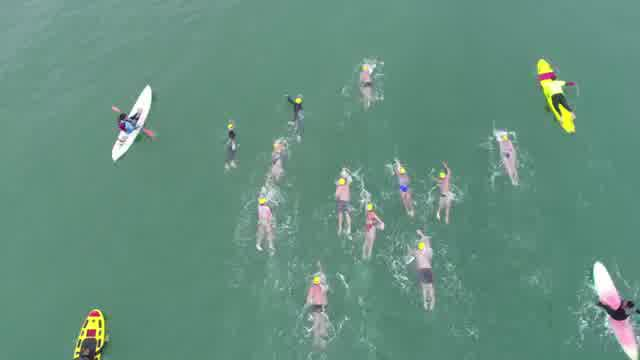swimmer: (308, 272, 334, 346), (416, 228, 434, 308), (252, 195, 276, 254), (496, 126, 518, 188), (434, 162, 454, 230), (391, 160, 415, 216), (362, 202, 381, 259), (336, 172, 351, 240), (268, 138, 286, 187), (357, 56, 373, 108), (288, 93, 306, 137)
